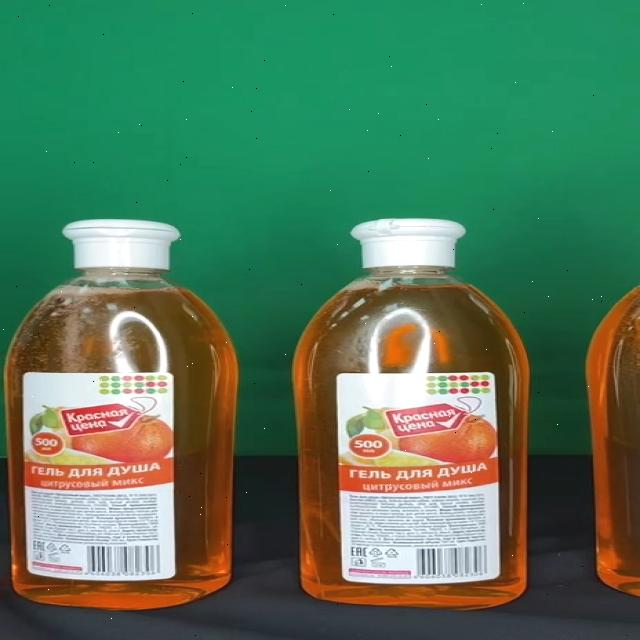Bottle: (293, 218, 528, 609), (4, 219, 239, 610)
Cap: (60, 220, 180, 270), (346, 218, 463, 267)
